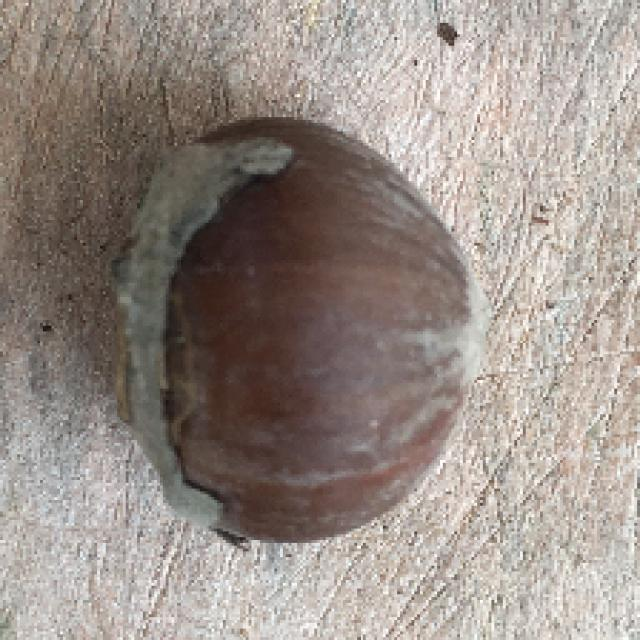damagedHazelnut: (96, 115, 474, 557)
